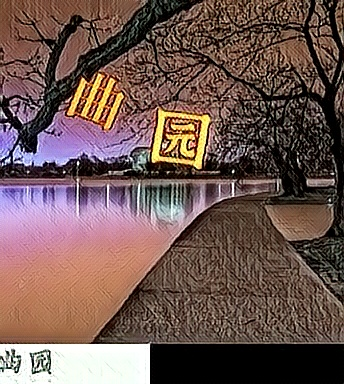C7FA: (66, 68, 128, 132)
D4B0: (149, 105, 211, 169)
